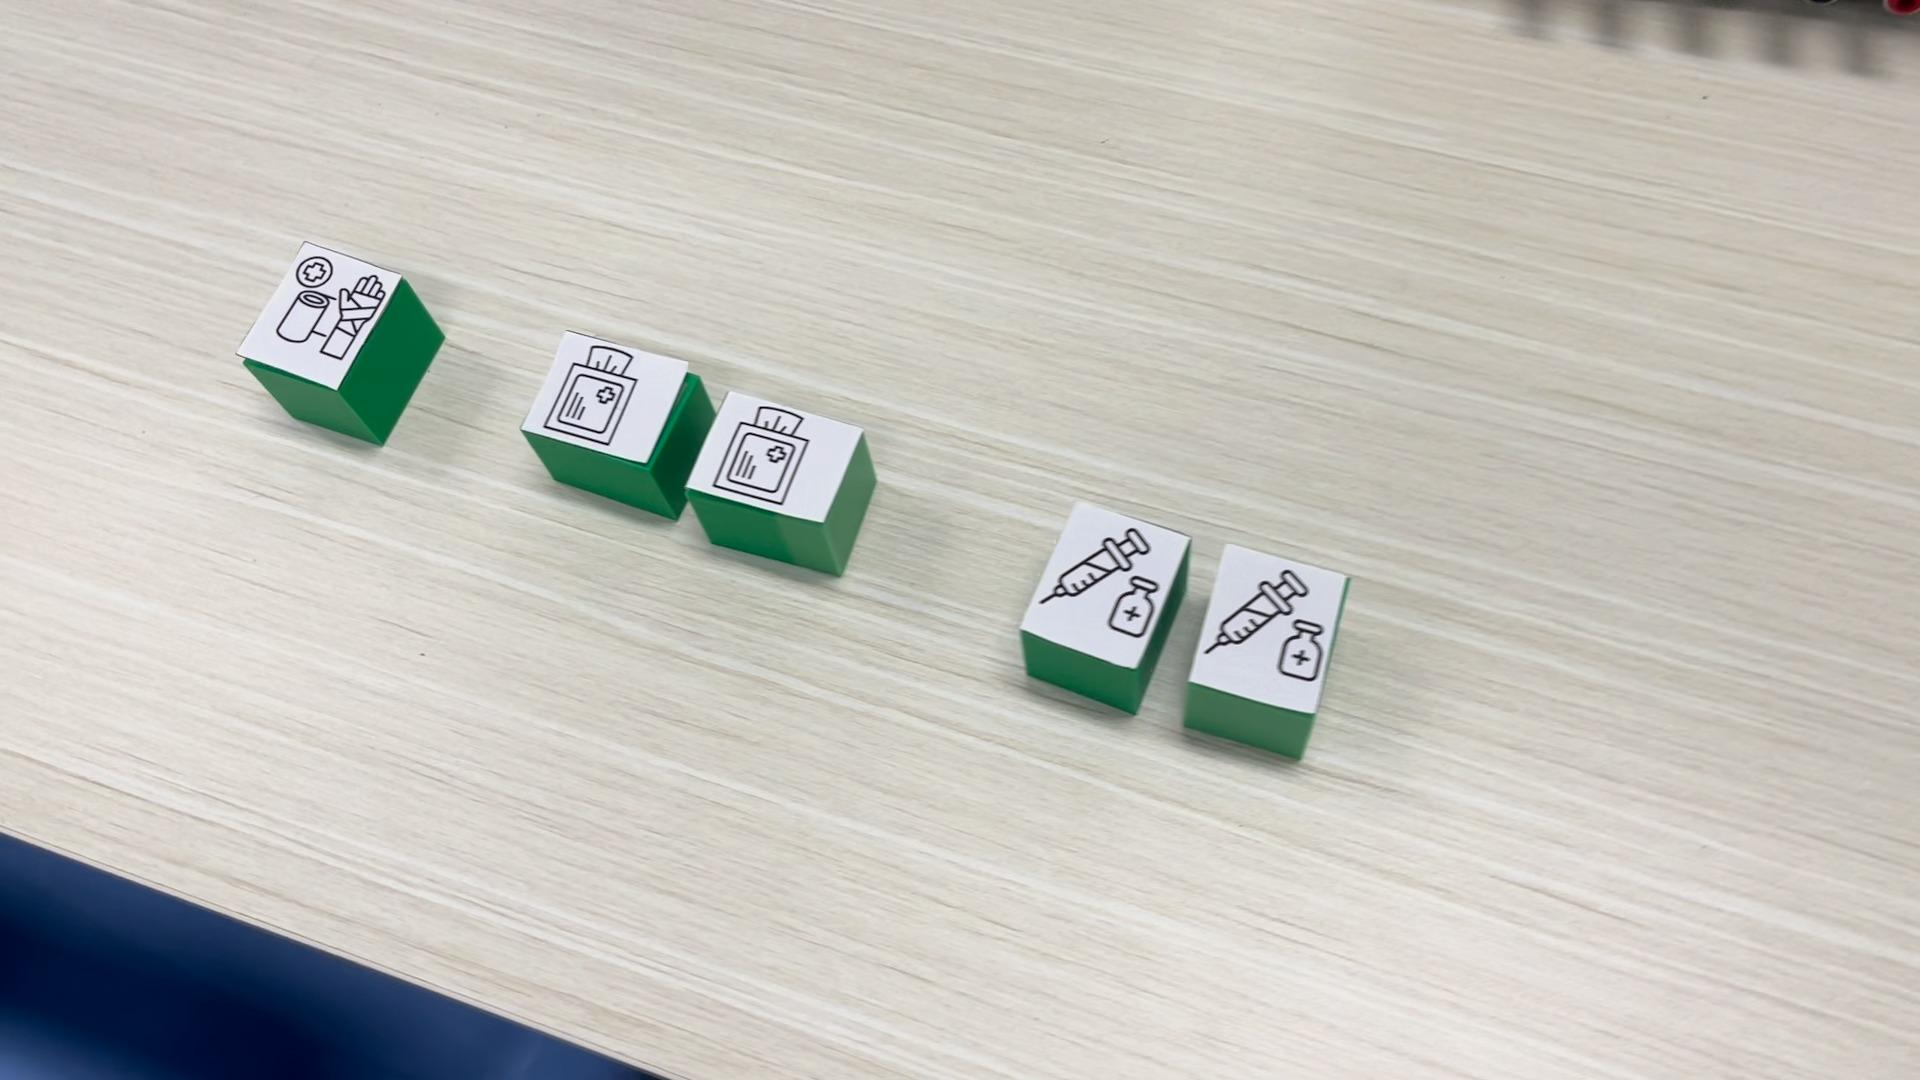Bandages: (236, 241, 444, 446)
Gauze: (682, 384, 876, 579), (522, 327, 711, 525)
antiseptic cream: (1011, 500, 1203, 717), (1185, 541, 1352, 761)
